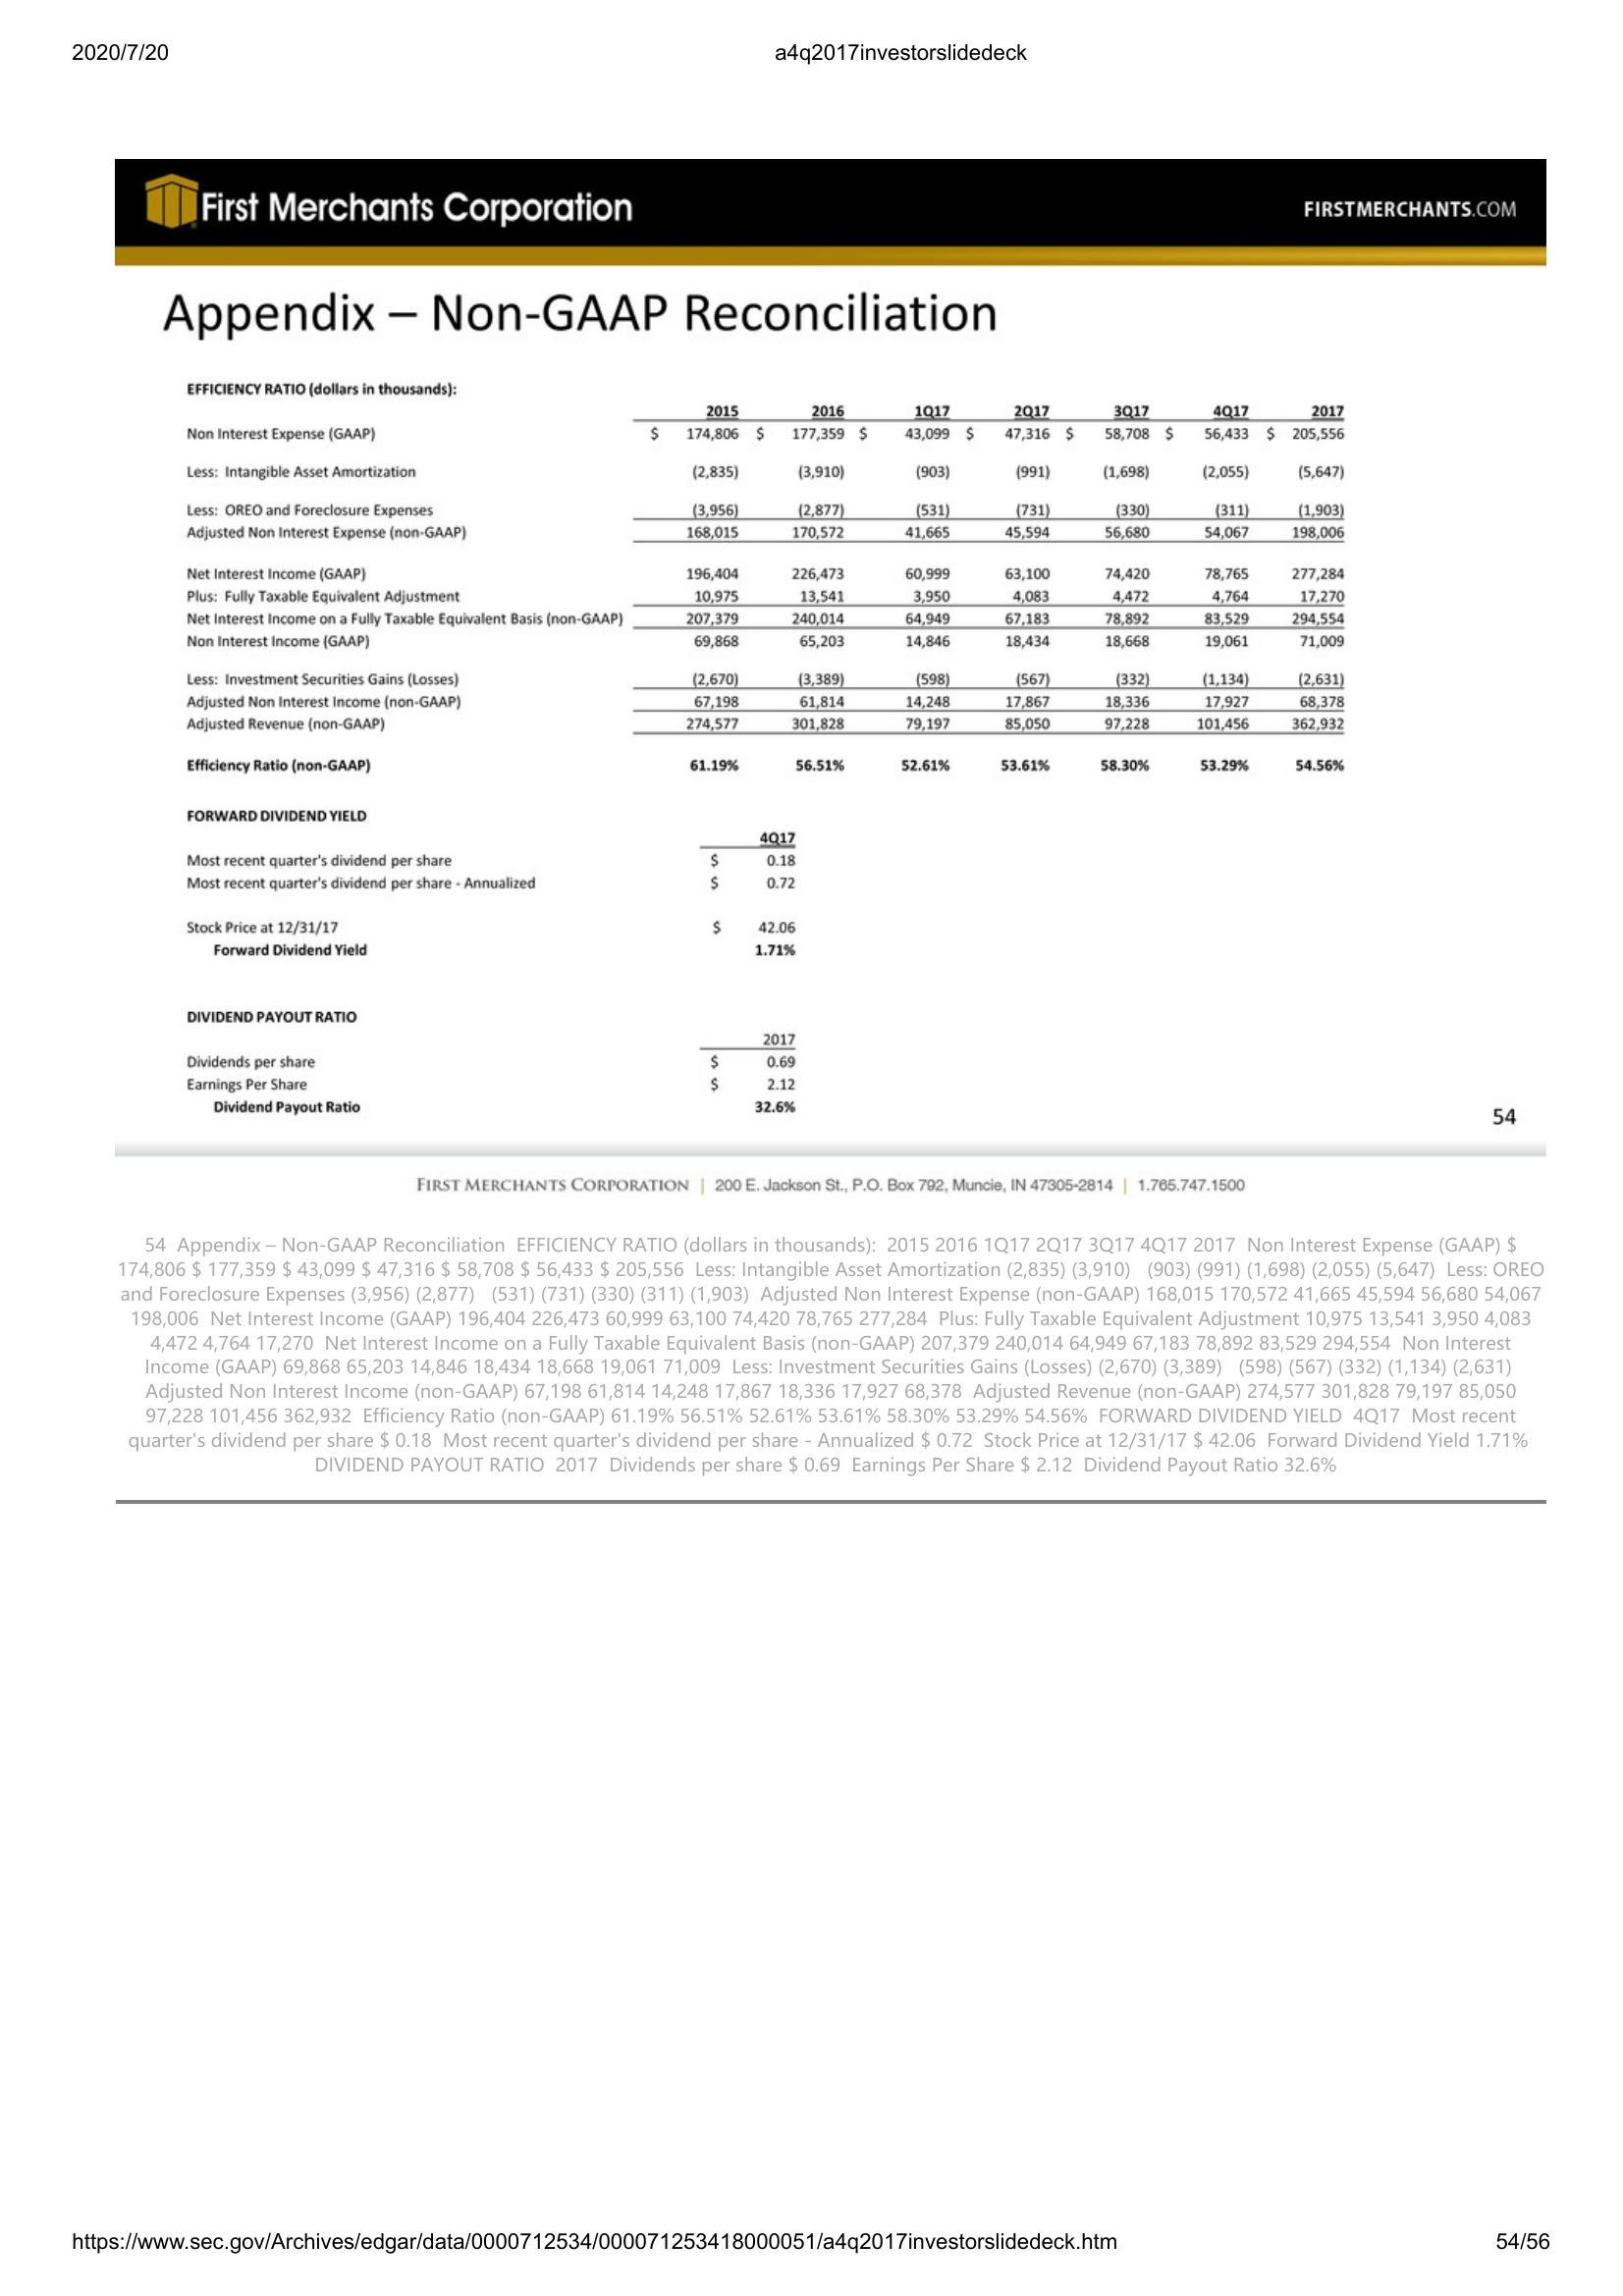table: (170, 374, 1360, 1116)
